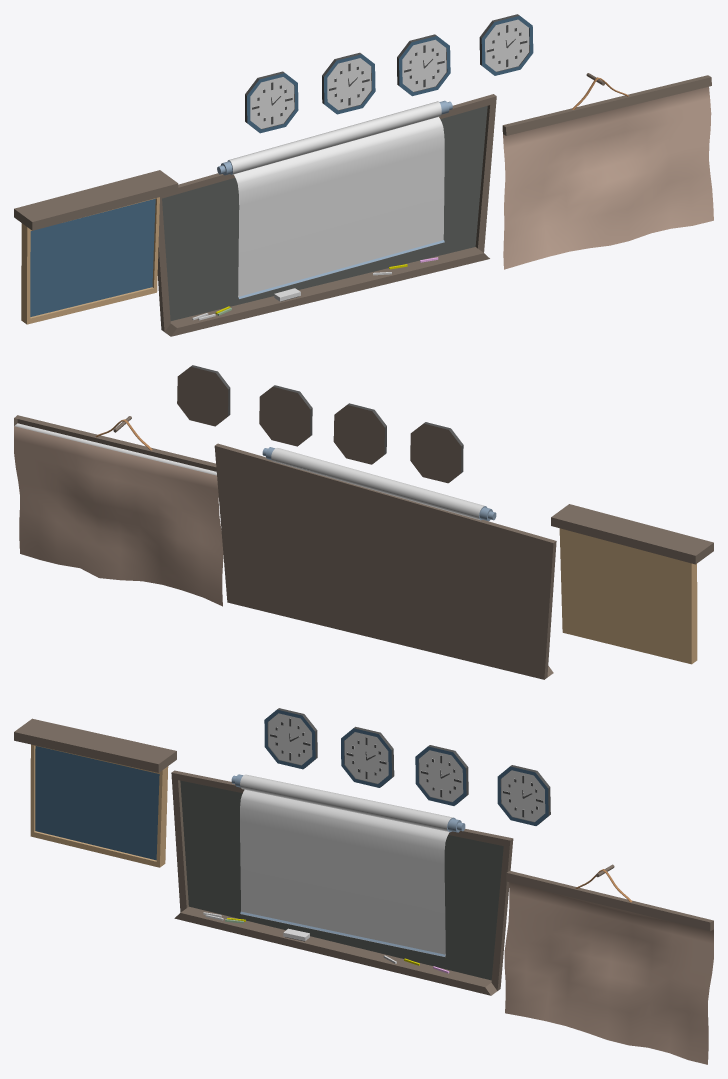
Rendered from boards.fbx.
The picture shows the model from 3 angles, top to bottom: view 1: azimuth 30°, elevation 25°; view 2: azimuth 150°, elevation 25°; view 3: azimuth 330°, elevation 25°; orthographic projection.
Parts seen in each view (by area): view 1: board1; view 2: board1; view 3: board1.
Part boxes in pixels (x1,y1,x2,y2): board1: [14, 14, 713, 336]; board1: [14, 365, 713, 679]; board1: [14, 708, 713, 1064].
Bounding box in the file's own units: 2462 × 832 × 148.
